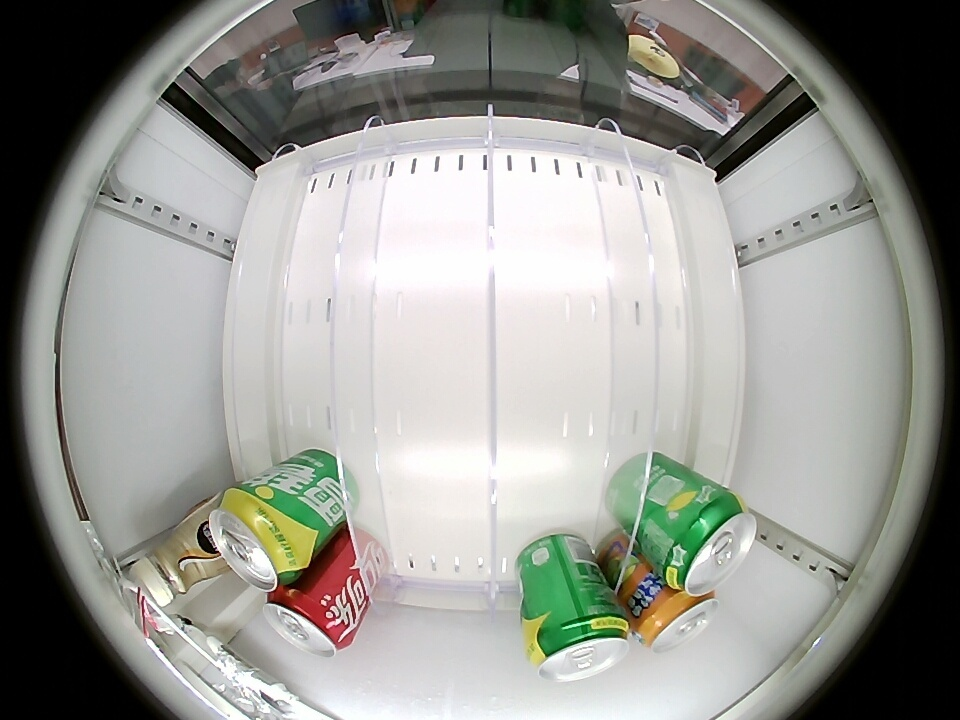fenda: (639, 598, 731, 653)
kele: (256, 597, 356, 662)
naicha: (123, 546, 184, 606)
xuebi: (662, 489, 761, 596), (206, 497, 290, 591), (526, 615, 634, 686)
